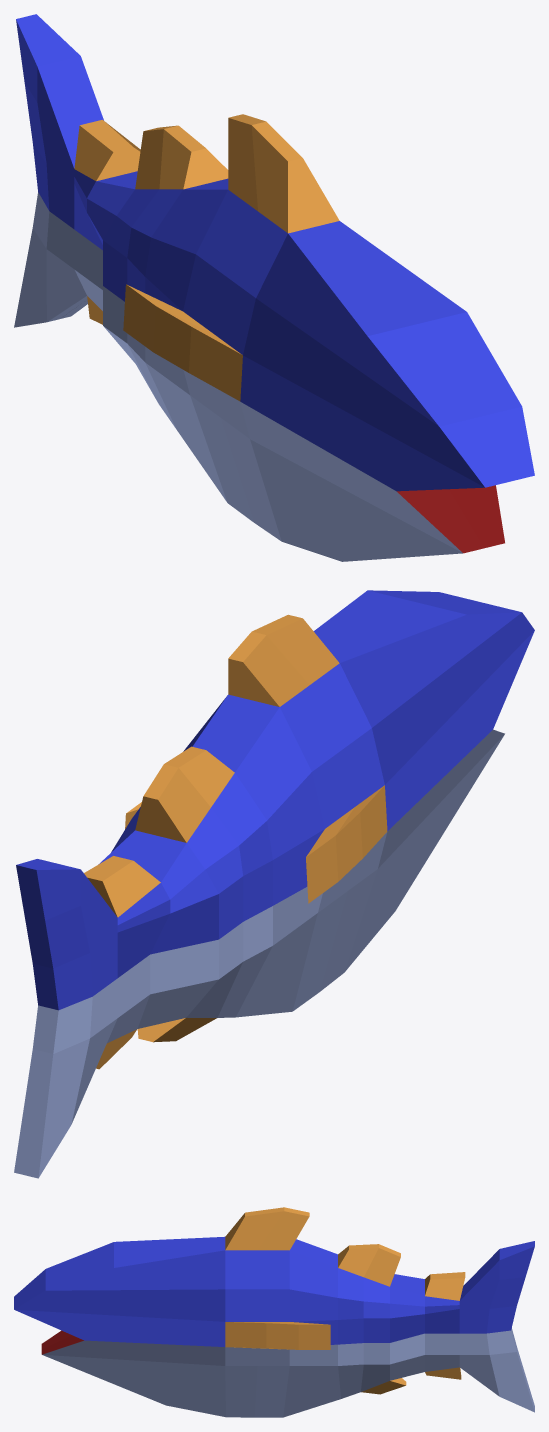
Rendered from Fish.fbx.
3 renders of one model, top to bottom at view 1: azimuth 30°, elevation 25°; view 2: azimuth 150°, elevation 25°; view 3: azimuth 270°, elevation 25°, orthographic. The views are drawn at different scales.
Visible parts, largest first — view 1: Cube; view 2: Cube; view 3: Cube.
Part boxes in pixels (bbox=[...]): Cube: bbox=[14, 14, 534, 561]; Cube: bbox=[14, 590, 534, 1178]; Cube: bbox=[14, 1207, 534, 1417].
Size of the model in its own units: 108 by 489 by 207.
